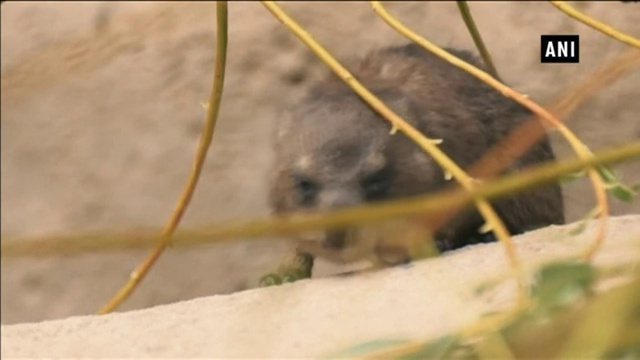Rock Hyrex: (269, 44, 568, 264)
